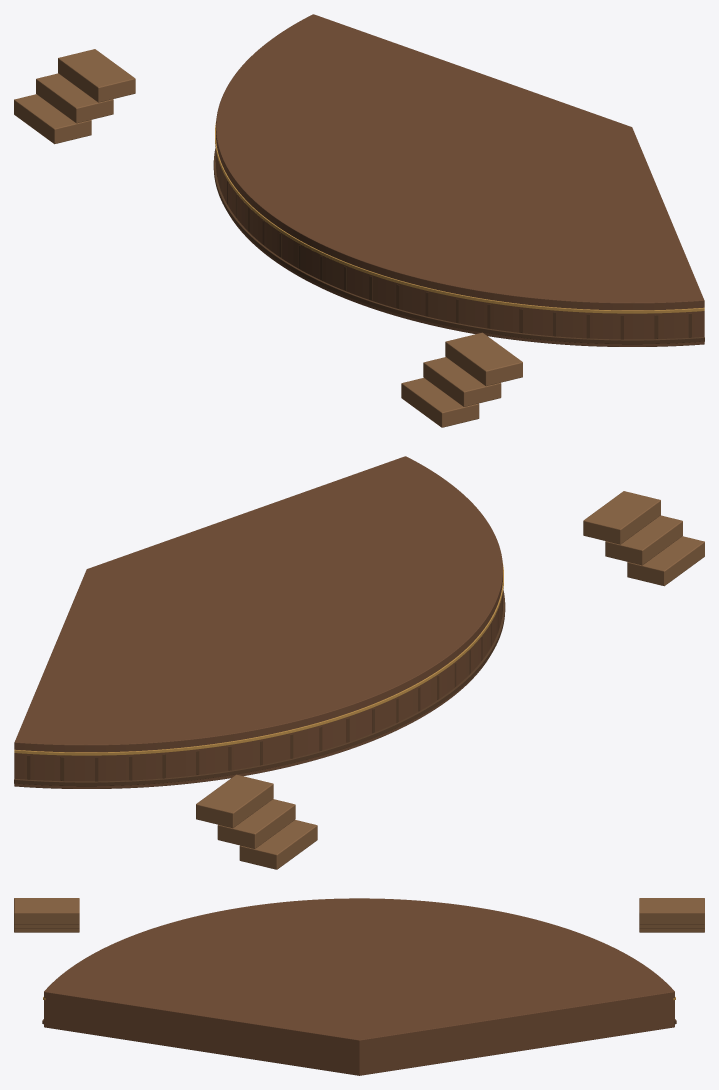
Rendered from SM_CP_StageApronAndSteps.fbx.
The picture shows the model from 3 angles, top to bottom: view 1: azimuth 30°, elevation 25°; view 2: azimuth 150°, elevation 25°; view 3: azimuth 270°, elevation 25°; orthographic projection. The views are drawn at different scales.
Parts seen in each view (by area): view 1: SM_CP_StageApronAndSteps; view 2: SM_CP_StageApronAndSteps; view 3: SM_CP_StageApronAndSteps.
Boxes of the visible parts, x1,y1,x2,y2 form: SM_CP_StageApronAndSteps: (14,14,704,427); SM_CP_StageApronAndSteps: (14,456,704,869); SM_CP_StageApronAndSteps: (14,898,704,1075).
Size of what is drawn, in the model's own units: 1290 by 2365 by 141.
